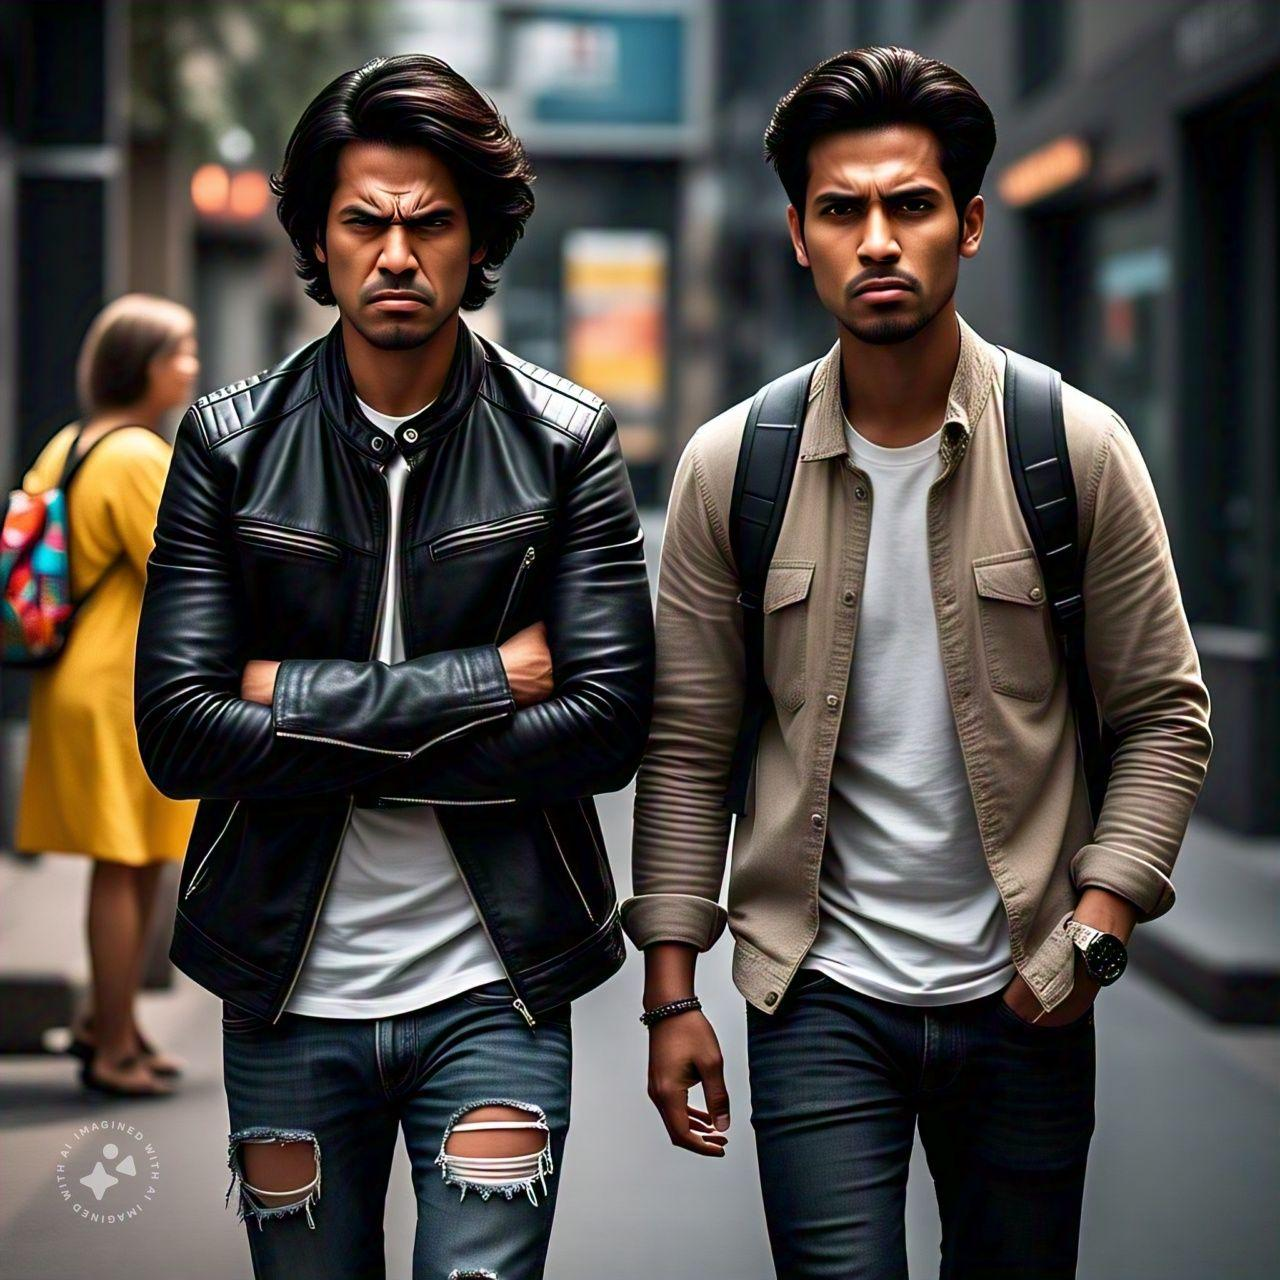normal: (794, 57, 978, 342)
raiva: (326, 90, 475, 362)
